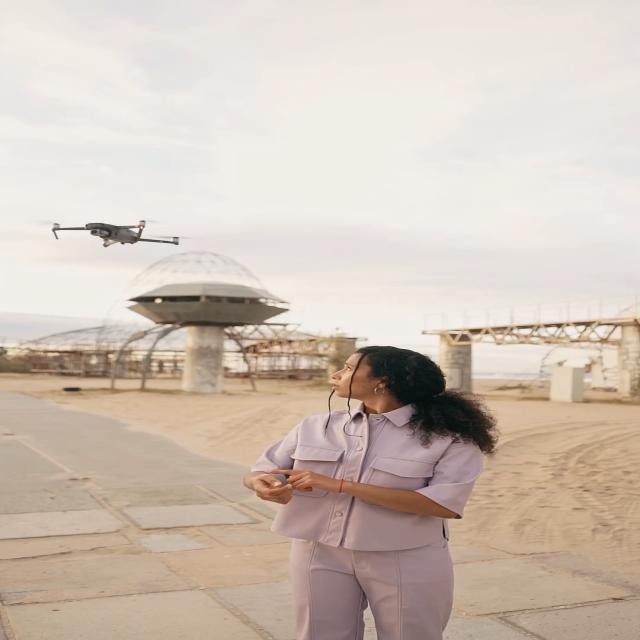Drone: (46, 212, 193, 254)
